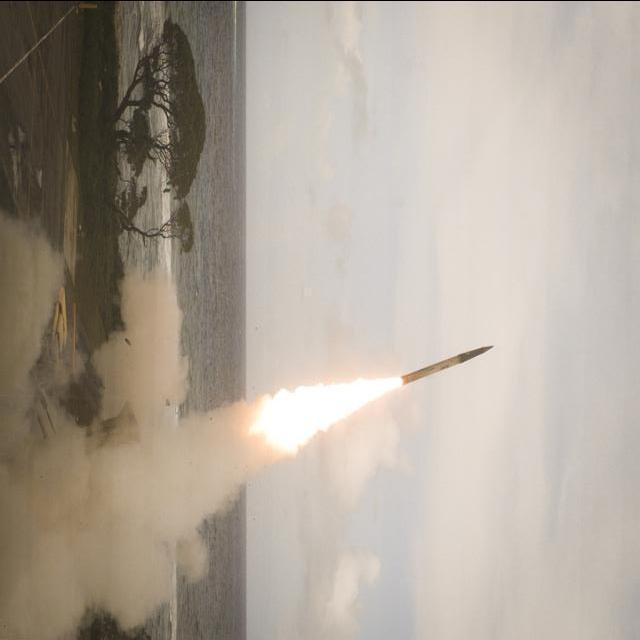missile: (402, 342, 496, 389)
